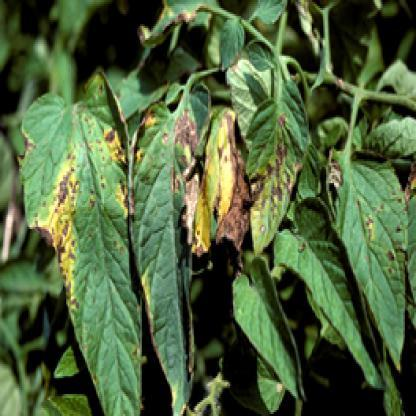Tomato leaf late blight: (20, 68, 144, 408), (129, 90, 205, 412), (328, 145, 412, 380), (249, 63, 309, 266)
